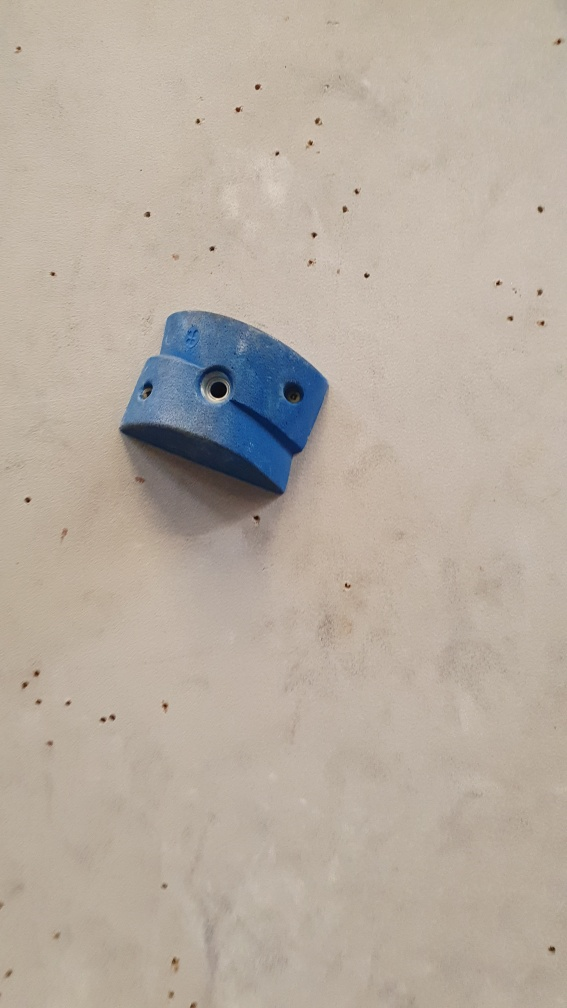Pinch: (115, 309, 340, 504)
